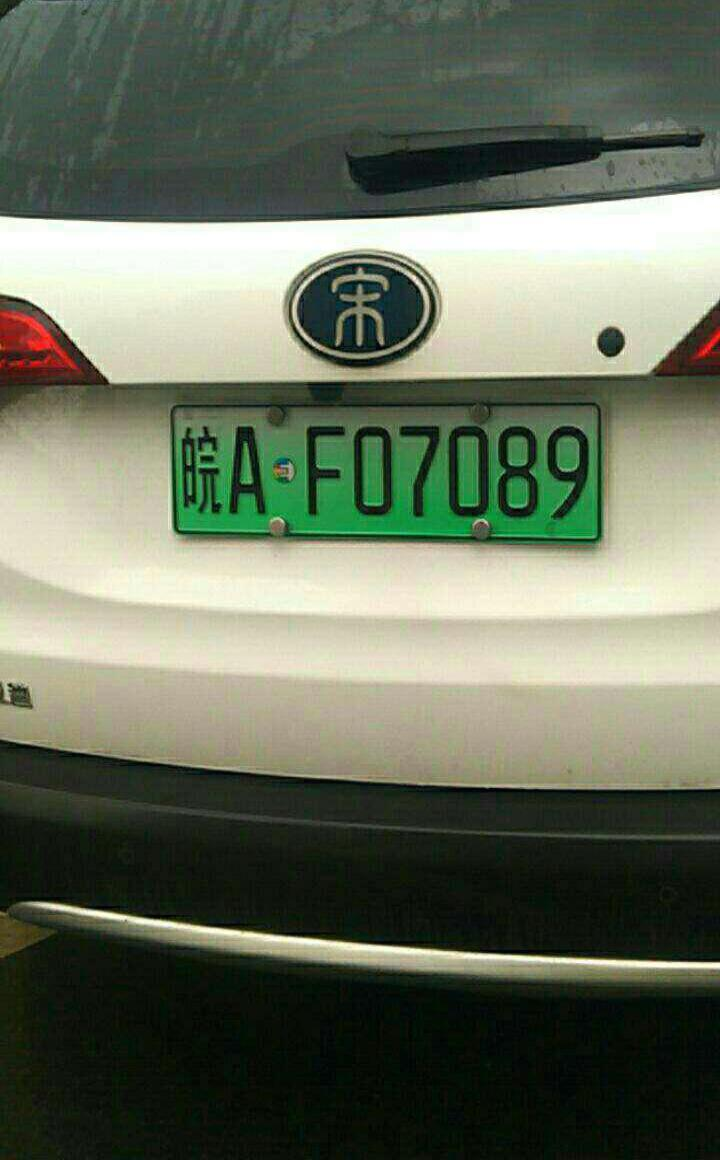car: (158, 394, 616, 548)
